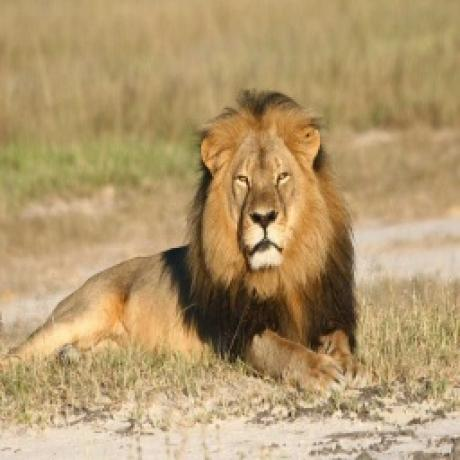Lion: (0, 87, 363, 390)
